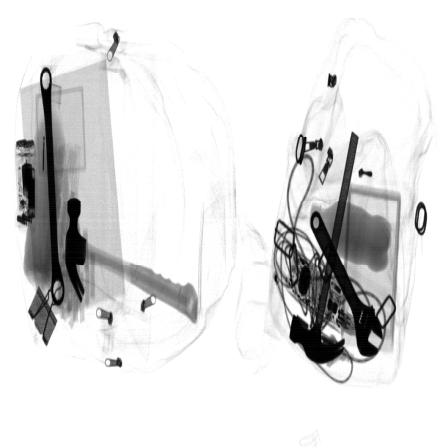Hammer: (64, 198, 198, 328), (290, 129, 360, 366)
Wrench: (309, 208, 383, 360), (40, 67, 64, 307)
